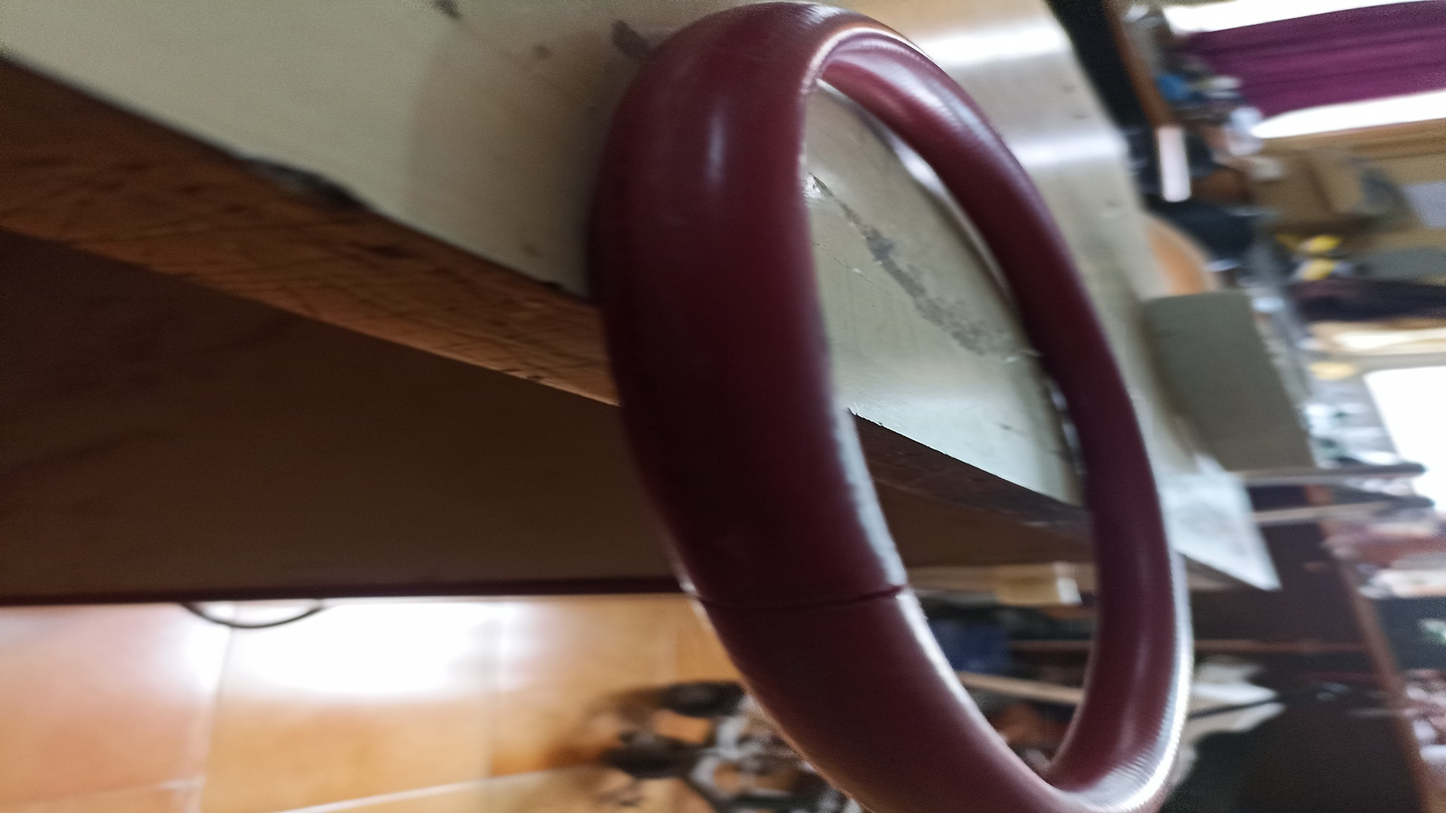Red ring: (610, 8, 1194, 813)
